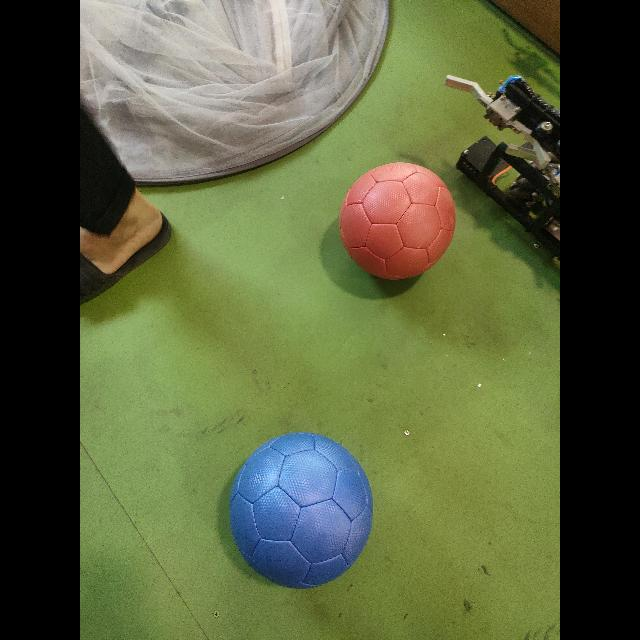B: (228, 432, 376, 588)
R: (340, 161, 458, 281)
